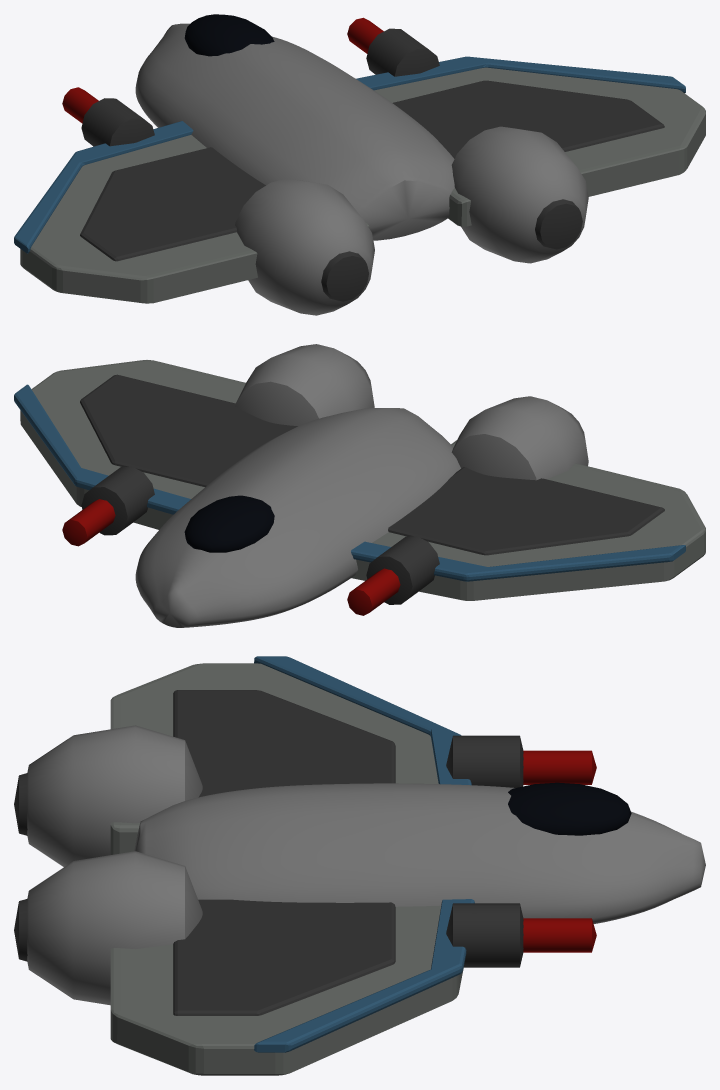
The model's file is nortship.glb.
The picture shows the model from 3 angles, top to bottom: view 1: azimuth 30°, elevation 25°; view 2: azimuth 150°, elevation 25°; view 3: azimuth 270°, elevation 25°; orthographic projection. The views are drawn at different scales.
Parts seen in each view (by area): view 1: fuselage, wing_left, panel_left, wing_right, boom, boom.001, panel_right, stripe_right, stripe_left, canopy, gun, gun.001 (+4 smaller); view 2: fuselage, panel_left, wing_left, panel_right, wing_right, boom, boom.001, stripe_left, canopy, stripe_right, gun, gun.001 (+2 smaller); view 3: fuselage, wing_right, panel_right, boom.001, panel_left, boom, wing_left, stripe_right, canopy, gun.001, stripe_left, gun (+4 smaller).
Boxes of the visible parts, x1,y1,x2,y2 form: fuselage: (135, 23, 454, 240); wing_left: (20, 135, 369, 303); panel_left: (80, 147, 265, 261); wing_right: (374, 67, 705, 226); boom: (235, 178, 374, 315); boom.001: (451, 126, 588, 263); panel_right: (392, 80, 664, 158); stripe_right: (356, 56, 685, 93); stripe_left: (14, 121, 193, 253); canopy: (184, 14, 274, 56); gun: (81, 98, 154, 146); gun.001: (366, 28, 439, 76); fuselage: (135, 407, 460, 627); panel_left: (388, 467, 664, 555); wing_left: (351, 440, 705, 600); panel_right: (80, 374, 297, 486); wing_right: (20, 360, 245, 529); boom: (451, 396, 588, 480); boom.001: (235, 344, 374, 426); stripe_left: (351, 541, 685, 581); canopy: (184, 495, 274, 552); stripe_right: (14, 384, 190, 514); gun: (366, 536, 439, 604); gun.001: (81, 466, 154, 535); fuselage: (134, 783, 705, 923); wing_right: (110, 905, 463, 1075); panel_right: (173, 899, 395, 1015); boom.001: (27, 851, 202, 1005); panel_left: (173, 690, 395, 797); boom: (27, 725, 202, 866); wing_left: (110, 663, 438, 854); stripe_right: (254, 899, 474, 1052); canopy: (508, 782, 631, 835); gun.001: (446, 903, 523, 967); stripe_left: (254, 656, 471, 785); gun: (446, 735, 523, 787).
Bounding box in the file's own units: 37 × 6.55 × 27.9.
